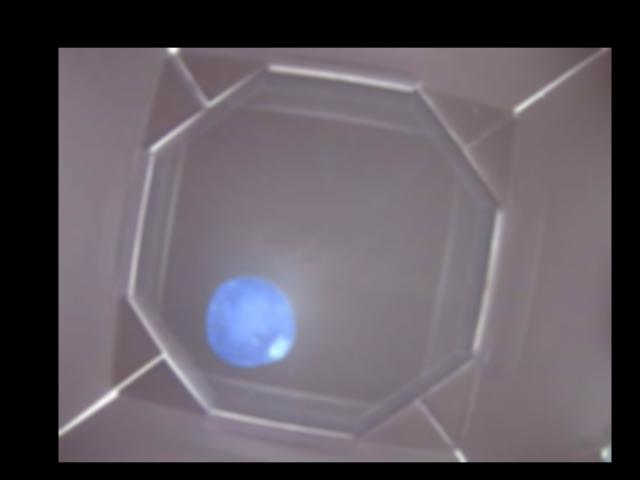Potato: (204, 275, 295, 367)
